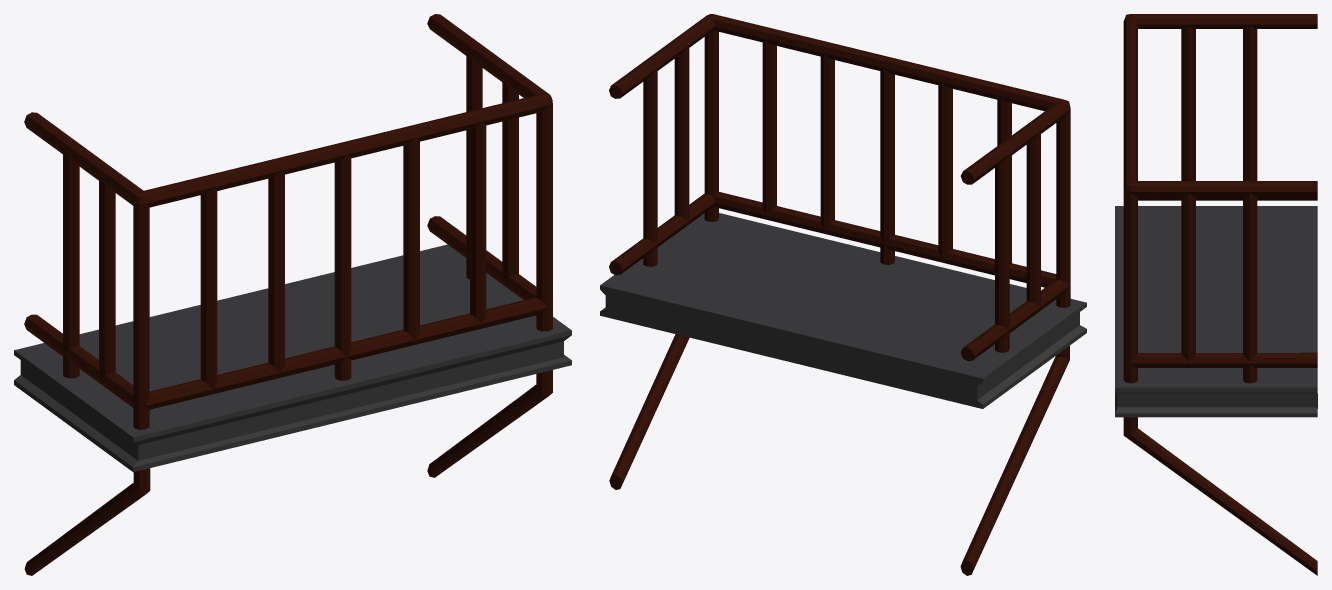
Rendered from Balcony_Medium.fbx.
3 views of the same model, side by side, from view 1: azimuth 30°, elevation 25°; view 2: azimuth 150°, elevation 25°; view 3: azimuth 270°, elevation 25° (orthographic). The views are drawn at different scales.
Visible parts, largest first — view 1: Balcony_Medium; view 2: Balcony_Medium; view 3: Balcony_Medium.
Part boxes in pixels (box(x1,y1,x2,y2)): Balcony_Medium: box(14, 14, 571, 575); Balcony_Medium: box(600, 14, 1086, 575); Balcony_Medium: box(1115, 14, 1317, 575).
Bounding box in the file's own units: 1042 × 1053 × 491.
